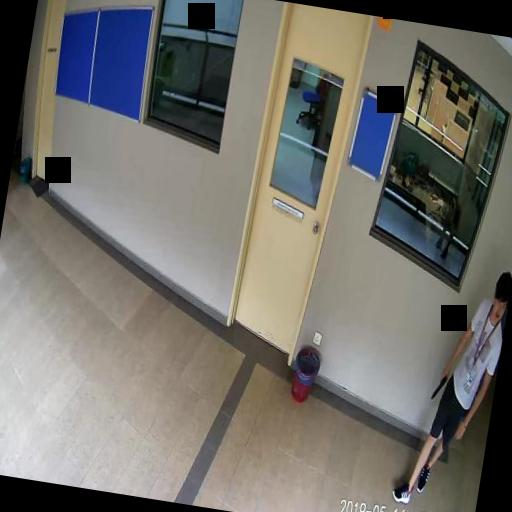Handgun: (430, 366, 447, 400)
